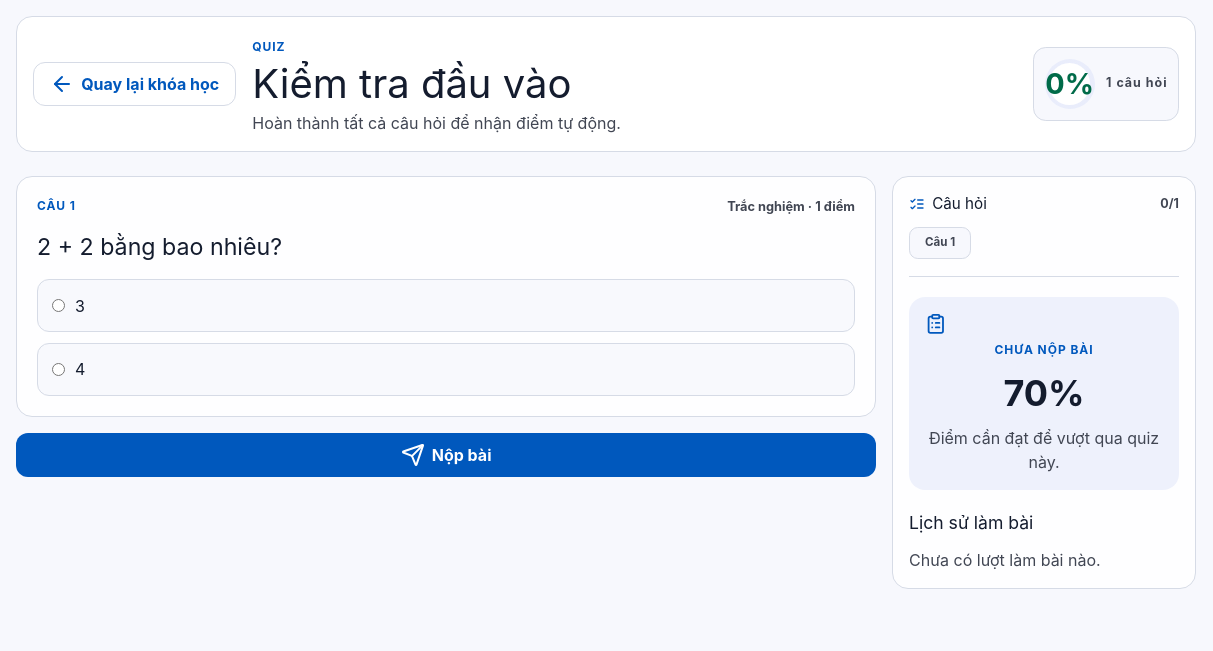
Scenario: QuizAttemptPage › does not render answer correctness when the server withholds review details
The width and height of the screenshot is (1213, 651).
Expected: the heading "Kiểm tra đầu vào" is shown, [252,59,572,108]
What coordinates should you click on to do the following:
click the radio button labelled "4"
I would click on:
 (58, 369)
Its box is [52,363,65,376].
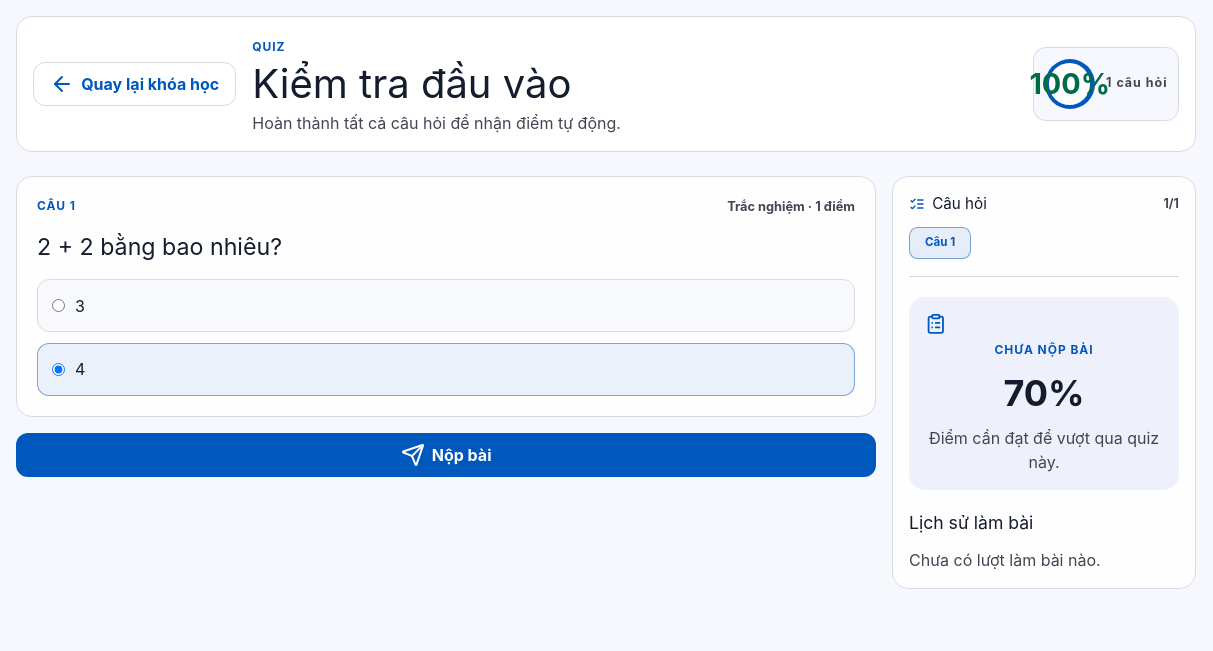
What coordinates should you click on to do the following:
click the button "Nộp bài"
I would click on:
 (446, 455)
Its box is [16,433,876,477].
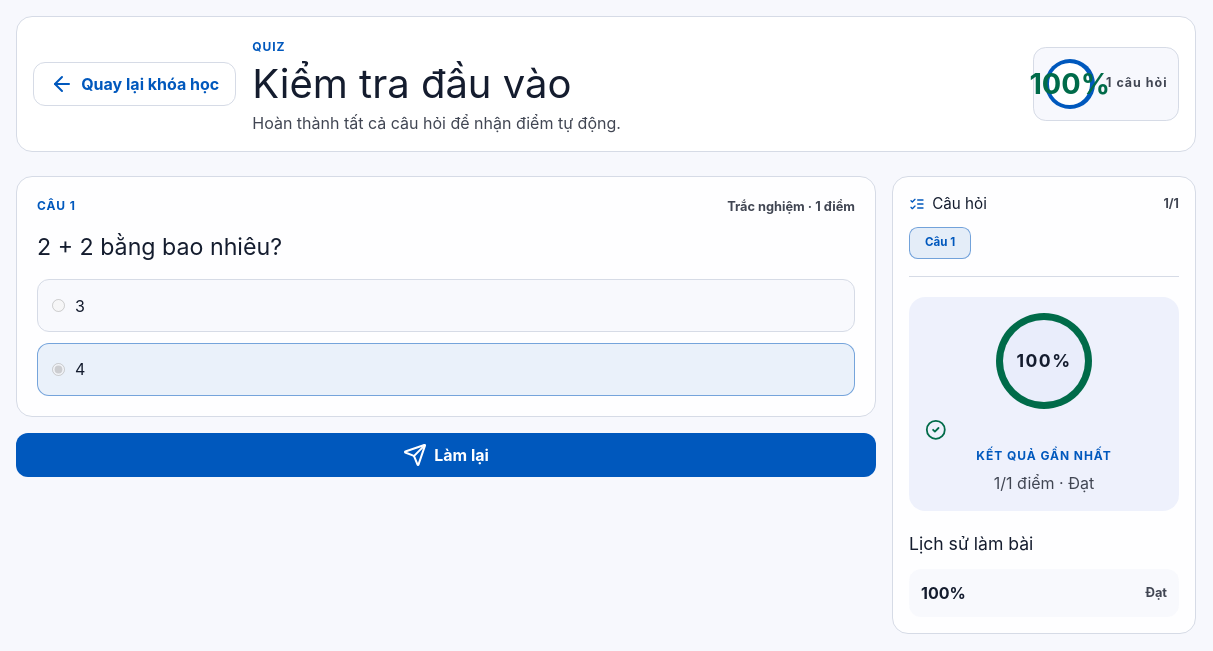
Result: the button "Làm lại" is shown at [16,433,876,477]
